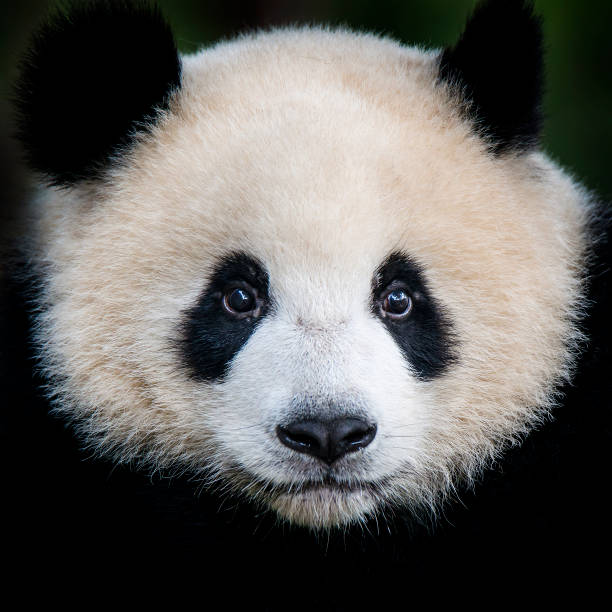panda: (4, 7, 605, 595)
